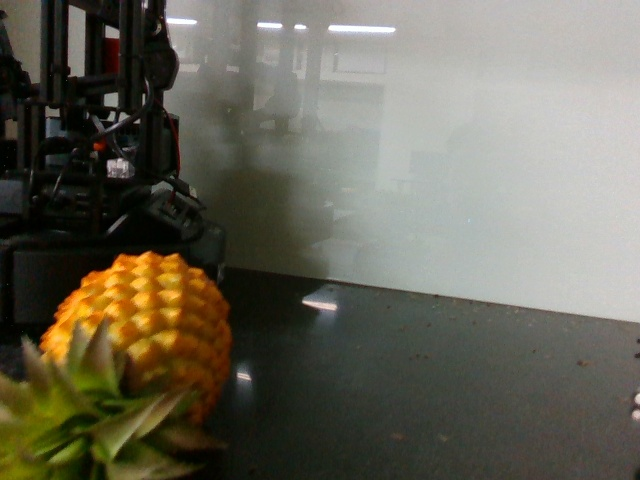pineapple: (1, 247, 228, 480)
